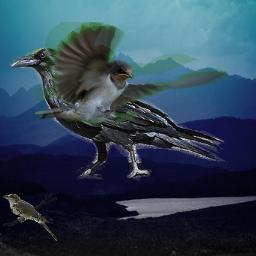Crow: (10, 47, 231, 182)
Cuckoo: (3, 194, 57, 241)
Swallow: (35, 22, 228, 124)
